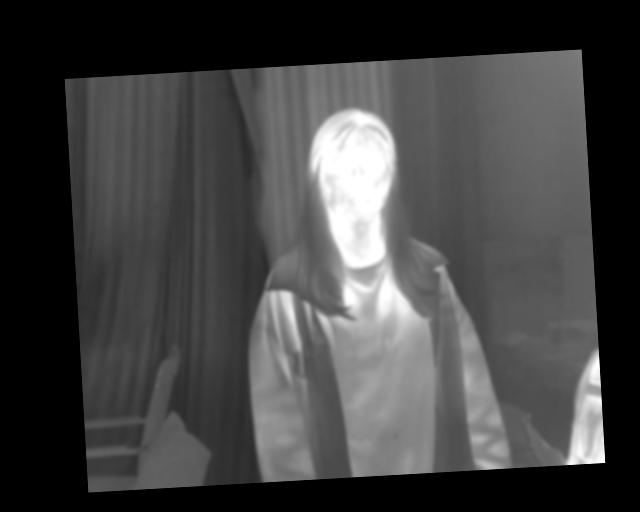face: (307, 105, 397, 226)
